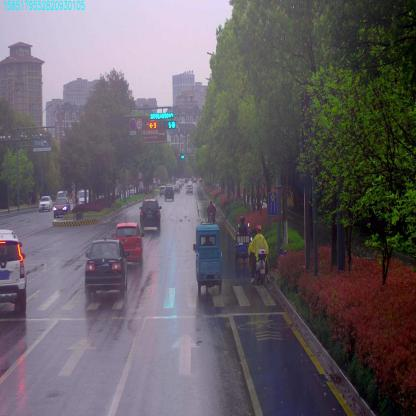traffic-light: (151, 112, 174, 119), (150, 119, 161, 130), (164, 121, 176, 130)
